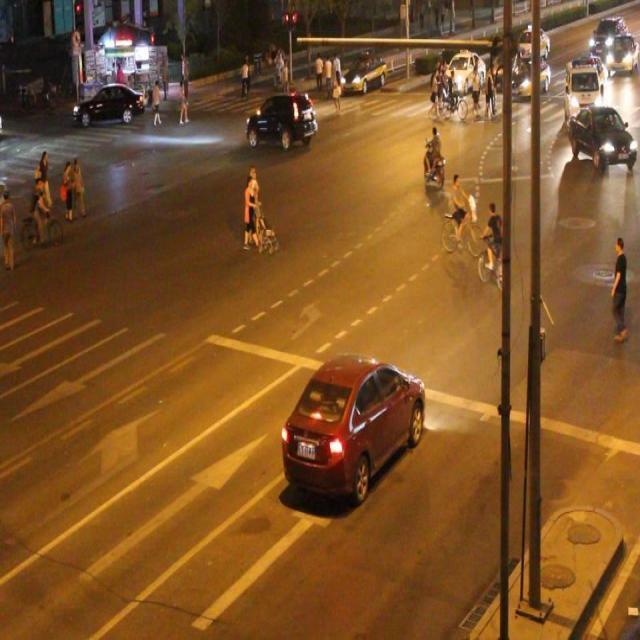car: (285, 340, 429, 522), (248, 78, 328, 160), (565, 94, 640, 174), (576, 5, 639, 79), (73, 70, 145, 131), (330, 57, 394, 109), (560, 55, 607, 124), (509, 46, 552, 103), (444, 51, 482, 100), (610, 34, 640, 80), (512, 28, 553, 54)
